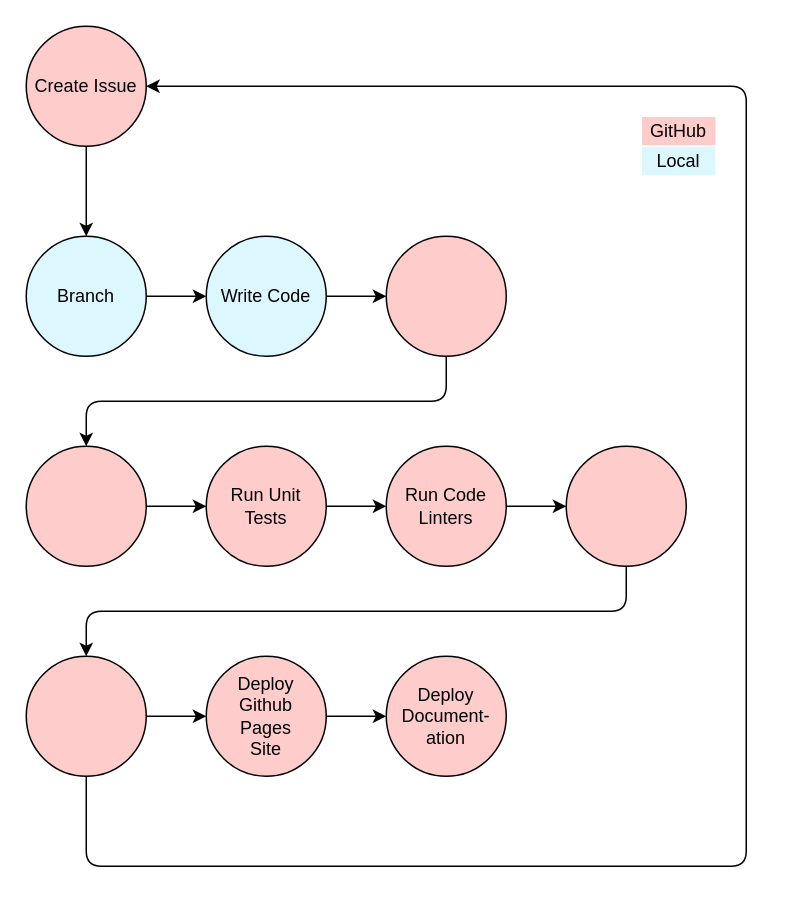
This 785x905 diagram has some shape labels left out. Here are the shapes that lost their labels. From the top down, the centre of each, then its label:
At [445,295]: "Push to Remote Branch".
At [85,505]: "Pull Request".
At [625,505]: "Run Human Review".
At [85,715]: "Push to main".
